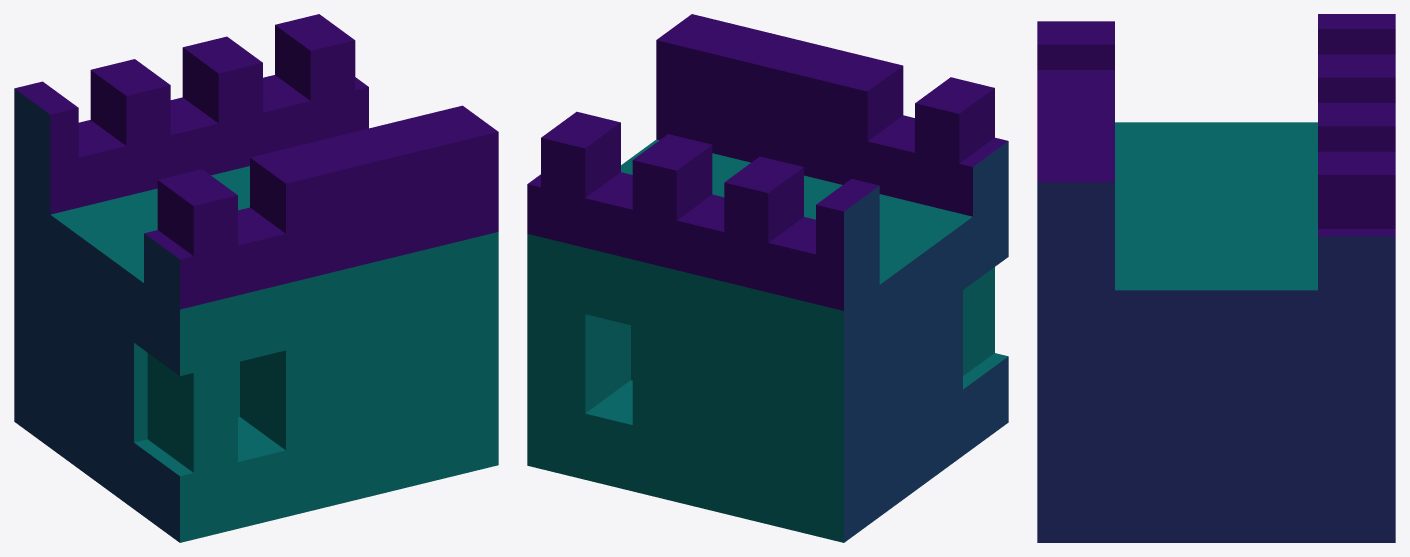
File: Roof_02_H_F.fbx
3 views of the same model, side by side, from view 1: azimuth 30°, elevation 25°; view 2: azimuth 150°, elevation 25°; view 3: azimuth 270°, elevation 25° (orthographic). The views are drawn at different scales.
Visible parts, largest first — view 1: 3, 1, 4, 2; view 2: 4, 2, 3, 1; view 3: 1, 2, 4, 3.
Part boxes in pixels (x1,y1,x2,y2): 3: (97,144,339,542); 1: (303,105,498,503); 4: (14,59,249,481); 2: (174,14,368,204); 4: (685,156,926,542); 2: (527,111,720,504); 3: (804,52,1008,482); 1: (621,14,849,197); 1: (1037,98,1216,542); 2: (1216,103,1395,542); 4: (1216,14,1395,206); 3: (1037,21,1216,206).
Size of the model in its own units: 200 by 200 by 180.
